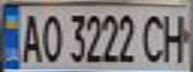2: (118, 10, 142, 64), (100, 10, 121, 64), (84, 10, 103, 64)
3: (63, 10, 87, 64)
A: (15, 9, 45, 64)
C: (139, 10, 172, 64)
H: (157, 9, 193, 63)
O: (36, 10, 63, 64)
